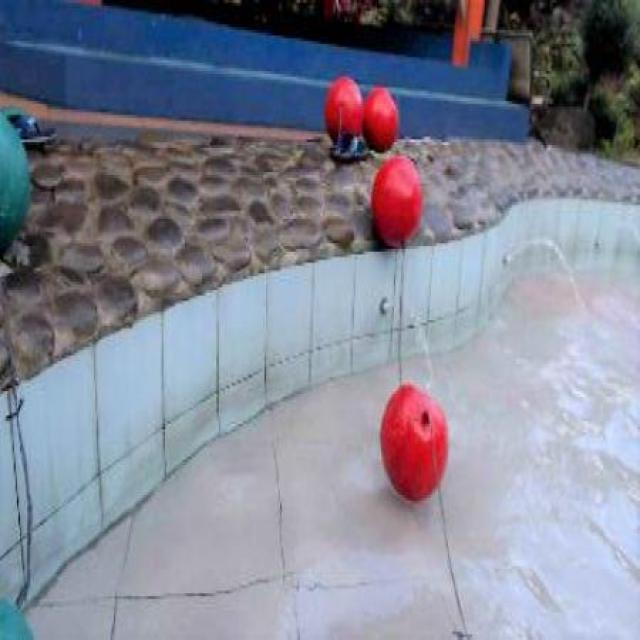buoy: (380, 384, 448, 502), (370, 156, 420, 250), (0, 110, 30, 254), (324, 77, 362, 142), (361, 86, 398, 149)
